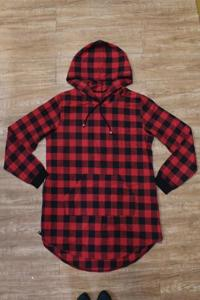C_hoodie: (1, 32, 199, 280)
